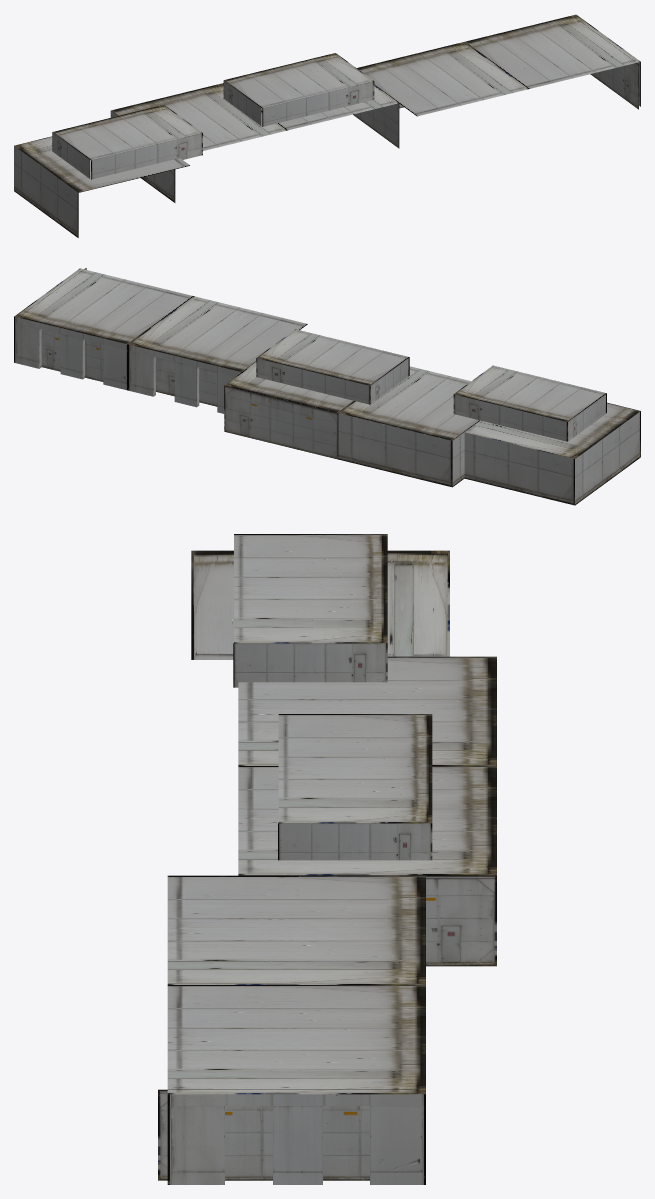
File: building2.fbx
The picture shows the model from 3 angles, top to bottom: view 1: azimuth 30°, elevation 25°; view 2: azimuth 150°, elevation 25°; view 3: azimuth 270°, elevation 25°; orthographic projection. The views are drawn at different scales.
Visible parts, largest first — view 1: polySurface23; view 2: polySurface23; view 3: polySurface23.
Part boxes in pixels (box(x1,y1,x2,y2)): polySurface23: box(14, 14, 640, 237); polySurface23: box(14, 268, 640, 505); polySurface23: box(158, 534, 496, 1184).
Bounding box in the file's own units: 37.52 × 4.18 × 9.91.
Materials: 1 (1 with a texture image).
